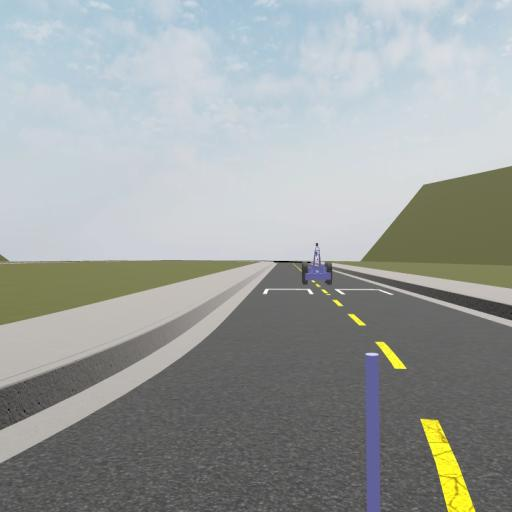ERP-42: (302, 243, 334, 284)
